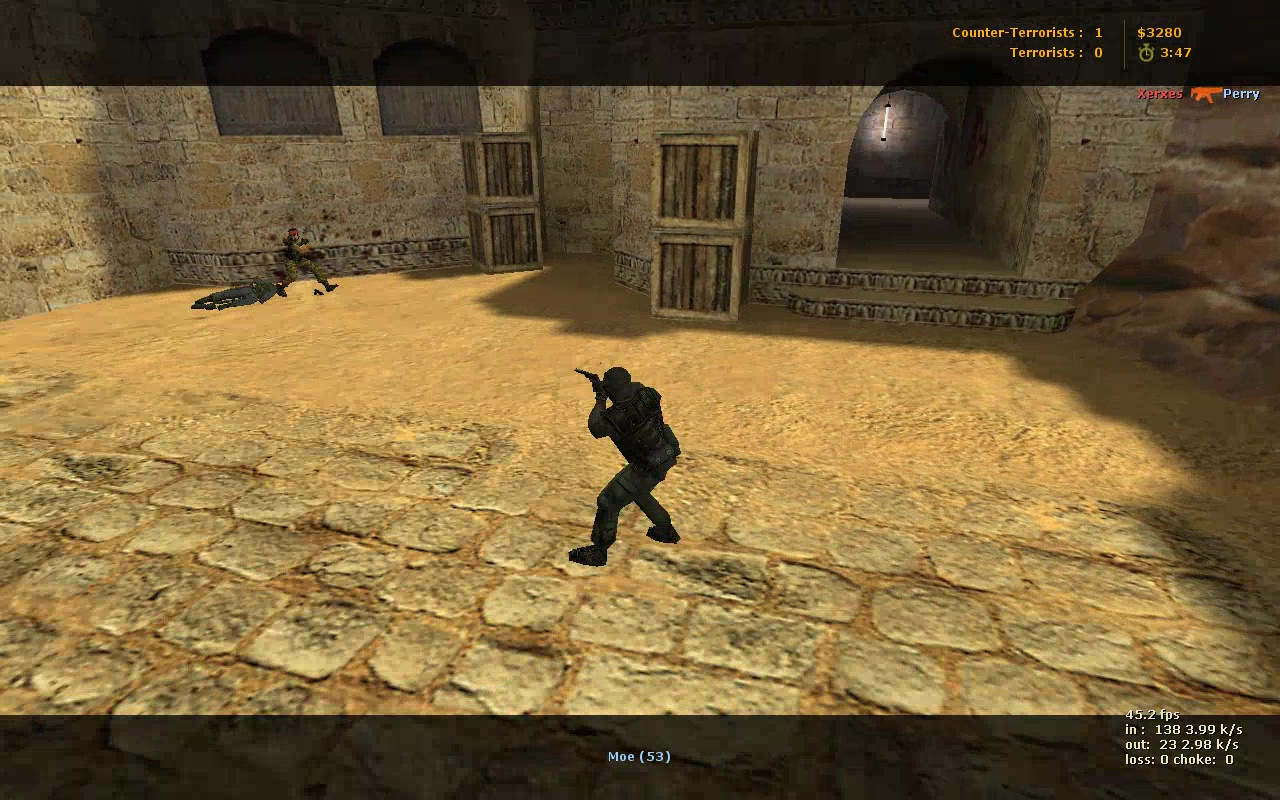ct: (570, 364, 685, 568)
dead: (193, 278, 277, 311)
terr1: (275, 230, 335, 297)
